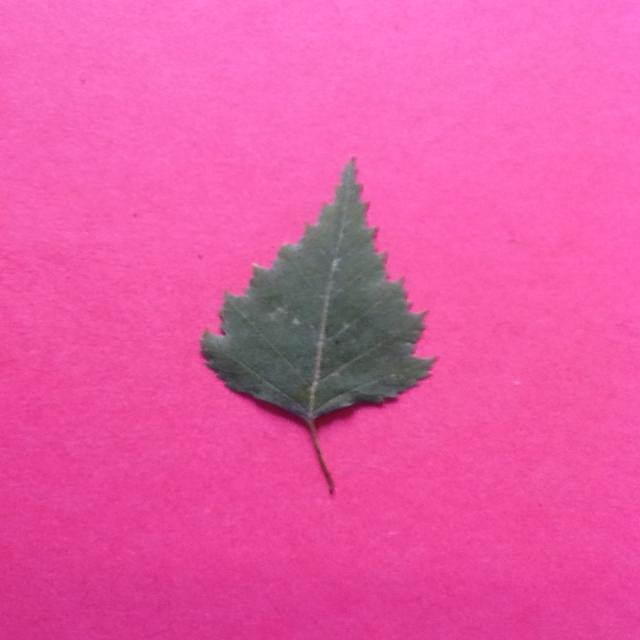foliage: (196, 152, 436, 500)
